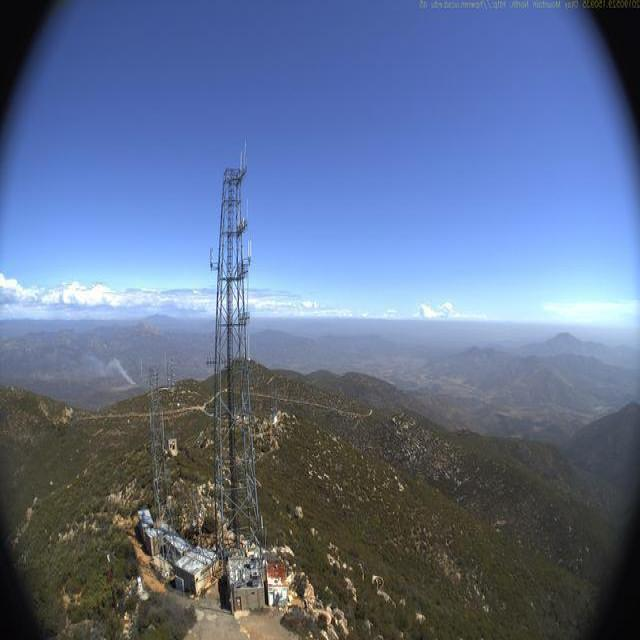smoke: (69, 344, 141, 393)
